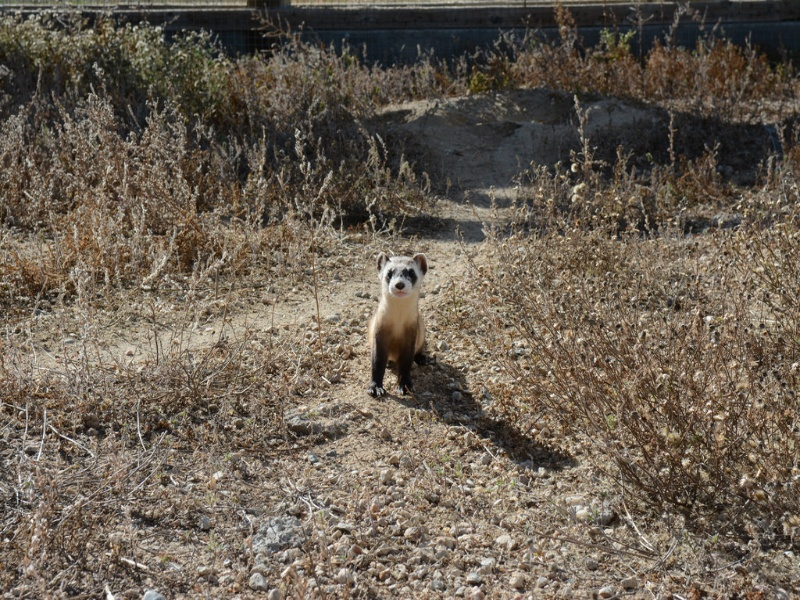minkish: (365, 248, 438, 400)
